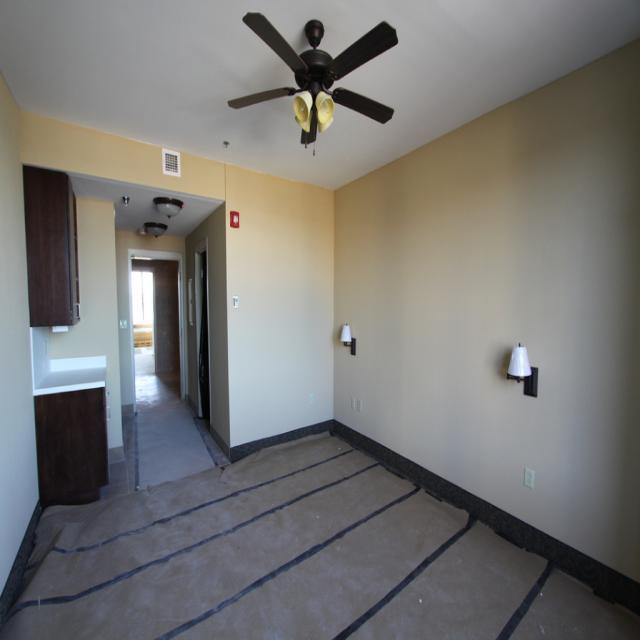bulb_off: (293, 102, 310, 120)
fan_off: (232, 10, 392, 146)
